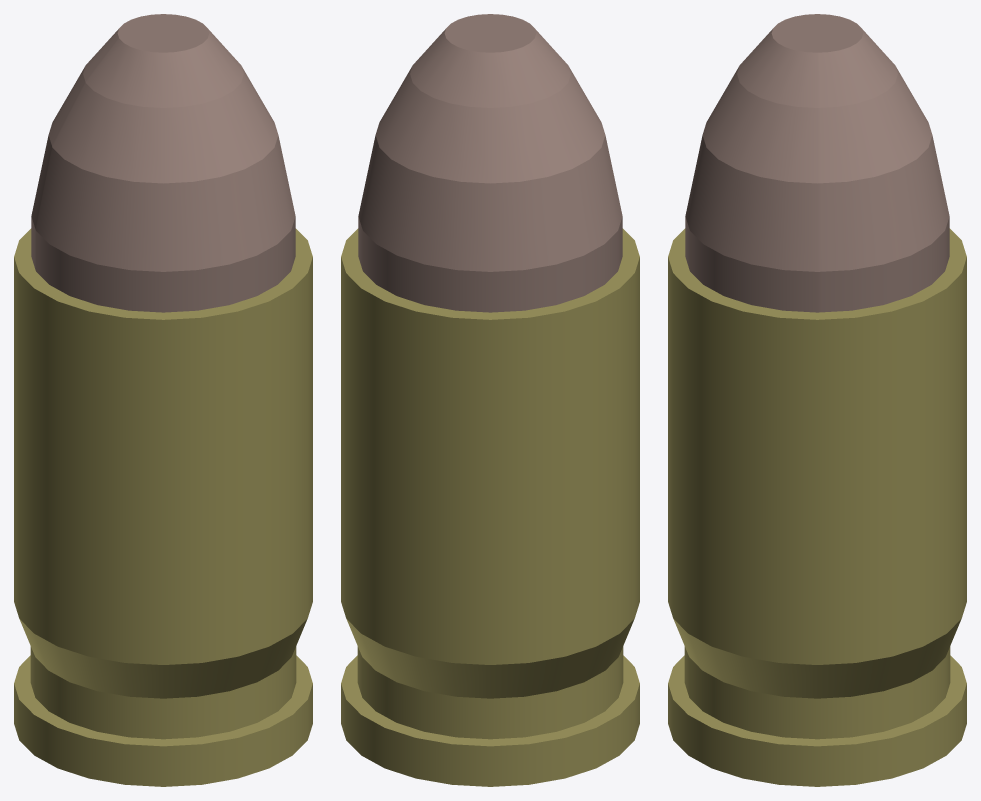
Rendered from ammo_uzi.glb.
3 views of the same model, side by side, from view 1: azimuth 30°, elevation 25°; view 2: azimuth 150°, elevation 25°; view 3: azimuth 270°, elevation 25° (orthographic).
Parts seen in each view (by area): view 1: ammo_uzi; view 2: ammo_uzi; view 3: ammo_uzi.
Part boxes in pixels (<box>): ammo_uzi: <box>14,14,312,786</box>; ammo_uzi: <box>341,14,639,786</box>; ammo_uzi: <box>668,14,966,786</box>.
Size of the model in its own units: 0.004 by 0.0102 by 0.004.
